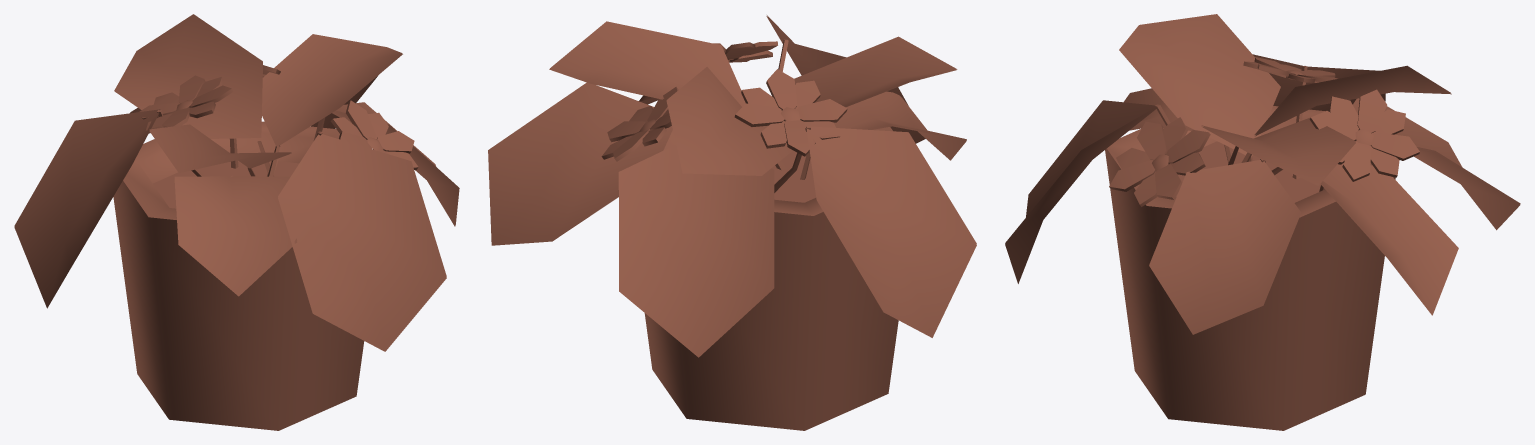
The model's file is Furniture_PottedPlant.fbx.
The picture shows the model from 3 angles, left to right: view 1: azimuth 30°, elevation 25°; view 2: azimuth 150°, elevation 25°; view 3: azimuth 270°, elevation 25°; orthographic projection. The views are drawn at different scales.
Visible parts, largest first — view 1: flower_001; view 2: flower_001; view 3: flower_001.
Part boxes in pixels (x1,y1,x2,y2): flower_001: (14,14,459,430); flower_001: (488,15,976,430); flower_001: (1005,14,1520,430).
Bounding box in the file's own units: 58.14 × 45.41 × 64.73.
